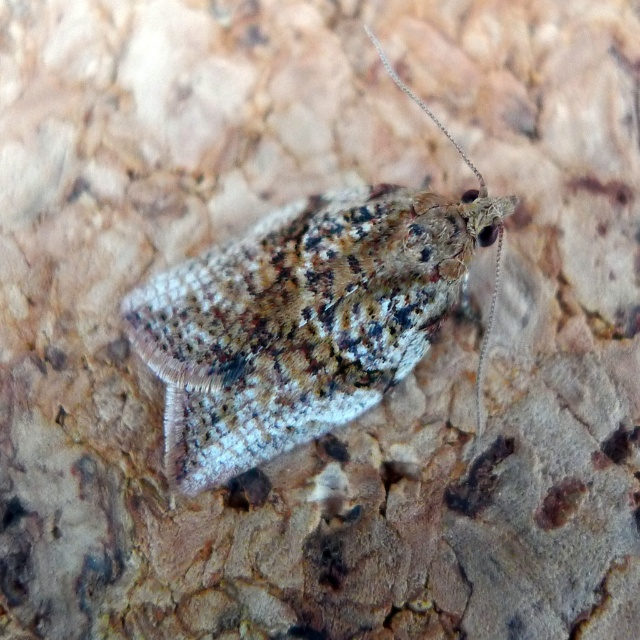Moths and butterflies: (115, 20, 521, 496)
